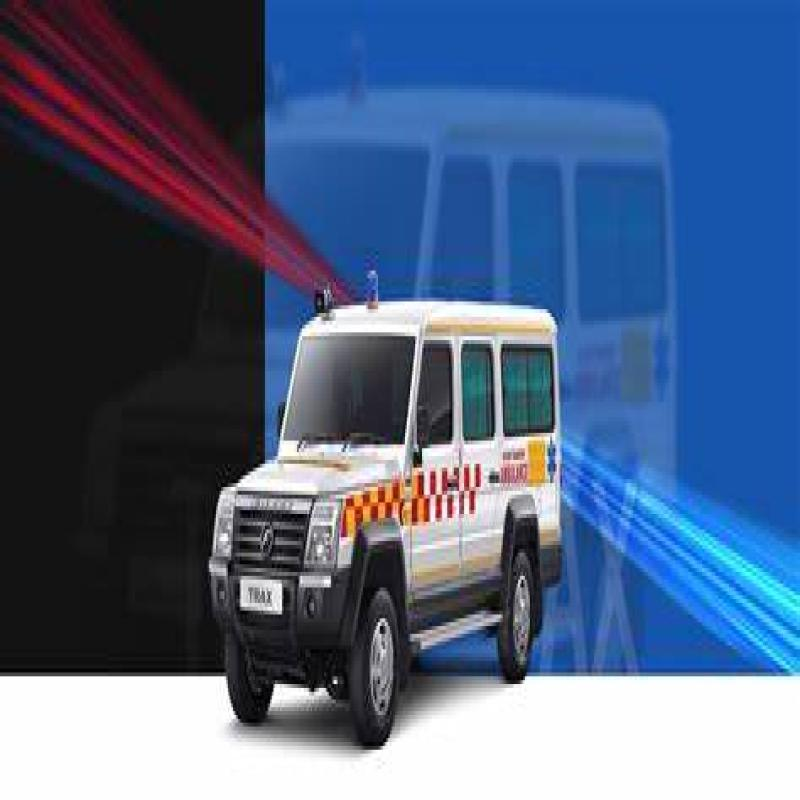AmbulanceSiren: (363, 260, 382, 329)
